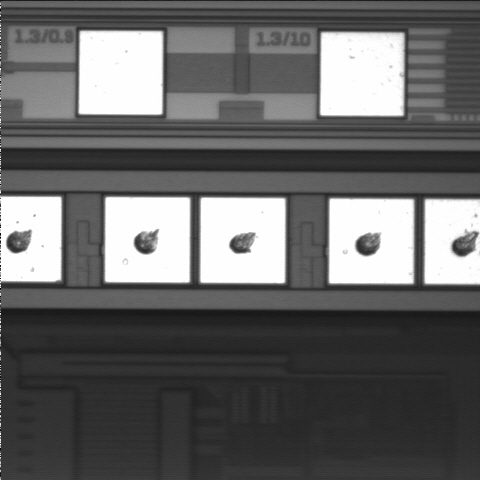pad: (105, 197, 190, 283), (200, 198, 285, 283), (329, 199, 414, 284), (79, 31, 163, 115), (320, 33, 404, 116)
